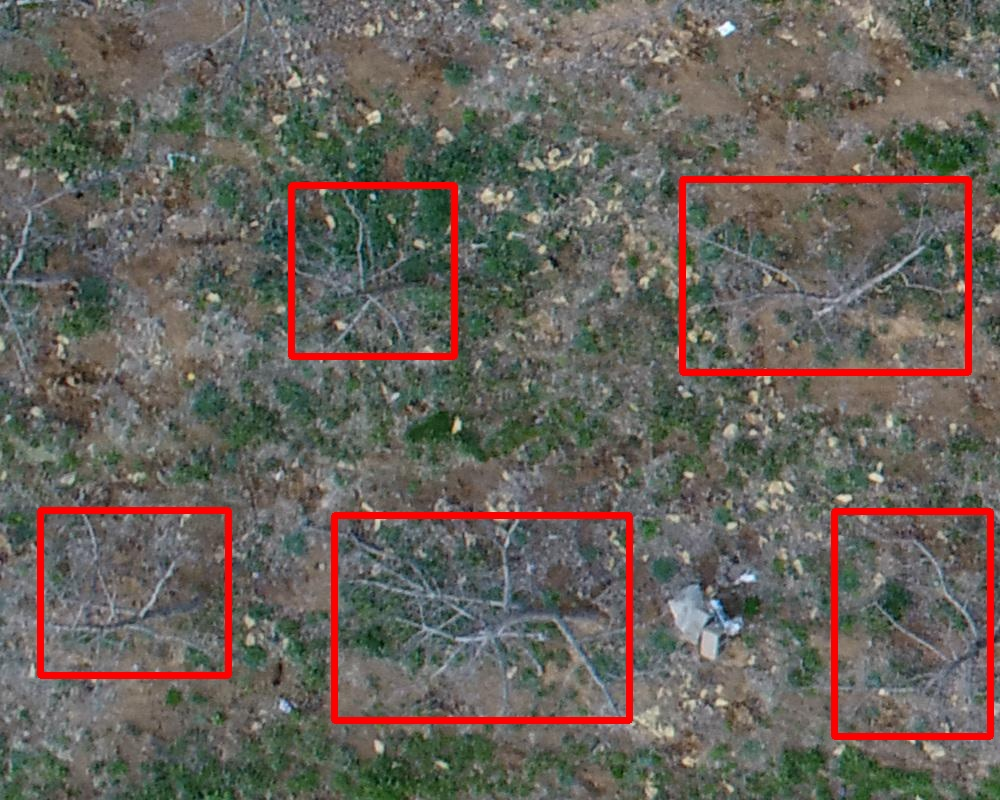apple: (334, 515, 629, 720), (682, 179, 968, 372), (834, 511, 990, 736), (40, 510, 228, 675), (291, 185, 454, 356)
